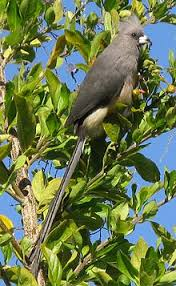target: (66, 16, 156, 161)
